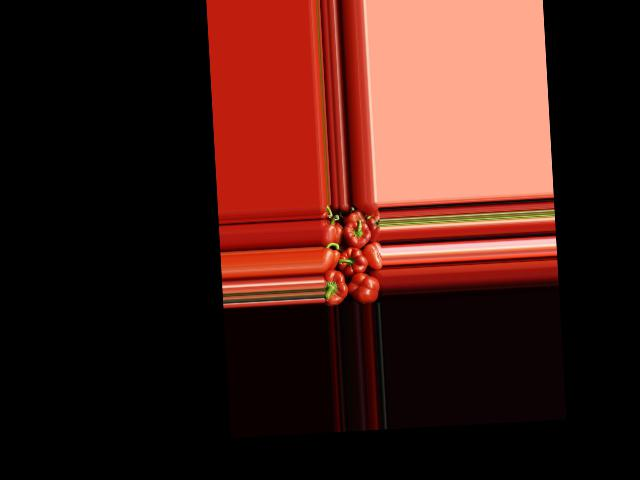bell_pepper: (364, 242, 381, 271)
